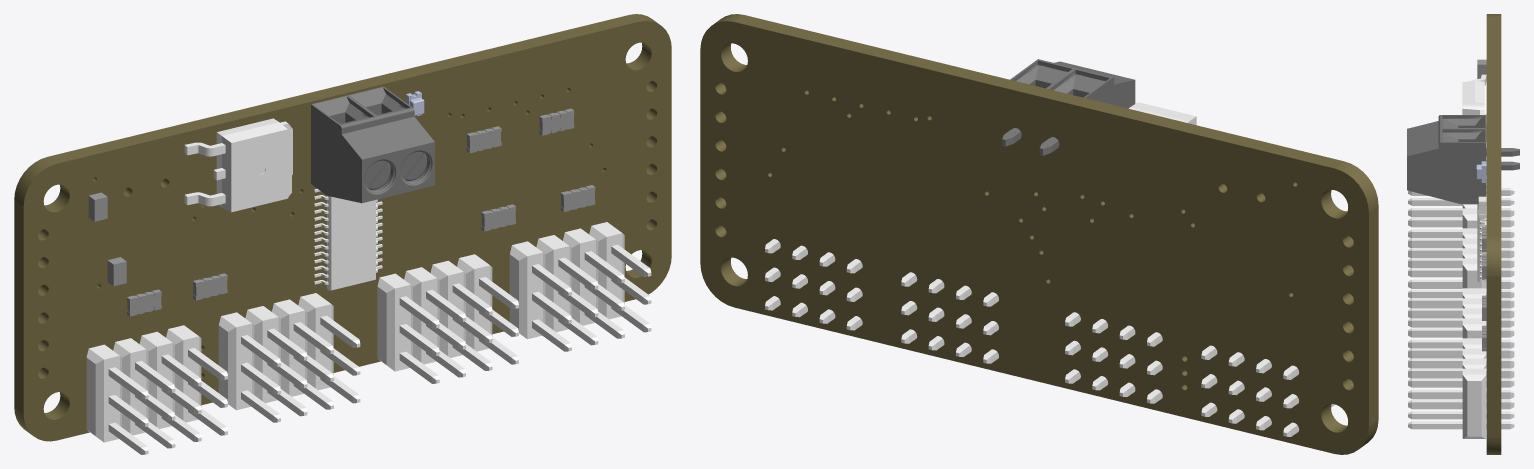
Rendered from 815 Servo Driver 16 Channel.glb.
3 renders of one model, left to right at view 1: azimuth 30°, elevation 25°; view 2: azimuth 150°, elevation 25°; view 3: azimuth 270°, elevation 25°, orthographic. The views are drawn at different scales.
Parts seen in each view (by area): view 1: Board, 3X04 (×4), TERMBLOCK_1X2-3.5MM, TO252, TSSOP28, RESPACK_4X0603 (×6); view 2: Board, 3X04 (×4), TERMBLOCK_1X2-3.5MM; view 3: 3X04 (×4), Board, TERMBLOCK_1X2-3.5MM, TO252, TSSOP28, RESPACK_4X0603 (×2), CHIPLED_0805_NOOUTLINE, _0805MP, 0805-NO.
Part boxes in pixels (<box>): Board: <box>14,14,671,441</box>; 3X04 (×4): <box>86,222,651,454</box>; TERMBLOCK_1X2-3.5MM: <box>311,86,434,203</box>; TO252: <box>184,118,292,212</box>; TSSOP28: <box>314,188,382,290</box>; RESPACK_4X0603 (×6): <box>127,108,595,316</box>; Board: <box>700,14,1378,454</box>; 3X04 (×4): <box>765,239,1334,436</box>; TERMBLOCK_1X2-3.5MM: <box>1002,59,1135,155</box>; 3X04 (×4): <box>1408,188,1514,438</box>; Board: <box>1486,14,1501,454</box>; TERMBLOCK_1X2-3.5MM: <box>1407,115,1519,204</box>; TO252: <box>1462,74,1486,119</box>; TSSOP28: <box>1477,183,1486,282</box>; RESPACK_4X0603 (×2): <box>1482,226,1486,351</box>; CHIPLED_0805_NOOUTLINE: <box>1476,161,1486,182</box>; _0805MP: <box>1478,196,1486,218</box>; 0805-NO: <box>1477,59,1486,78</box>.
Size of the model in its own units: 62.23 by 25.4 by 12.1.
